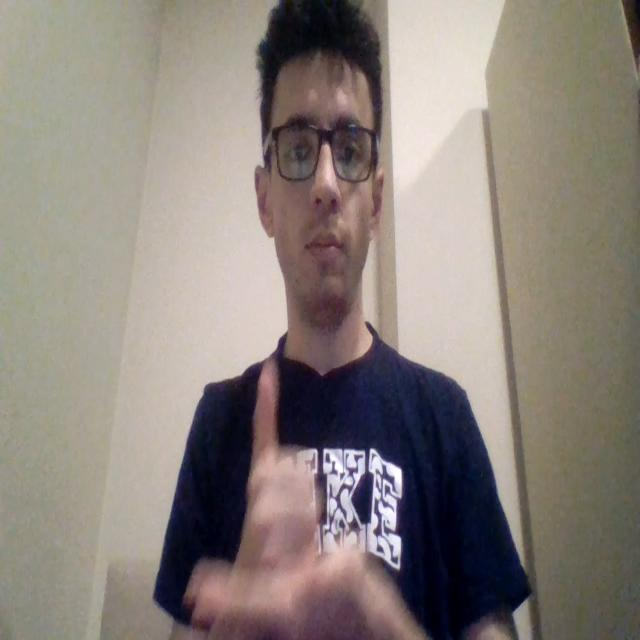help: (184, 355, 363, 640)
